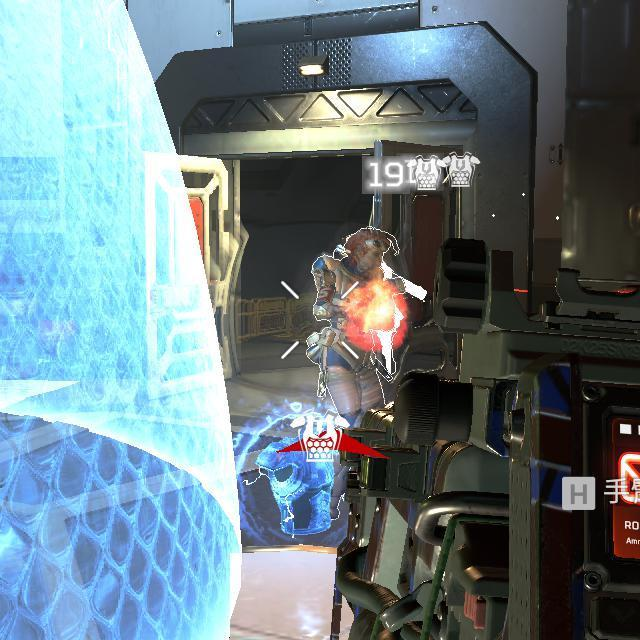avatar: (303, 222, 405, 432)
object: (342, 276, 409, 353)
